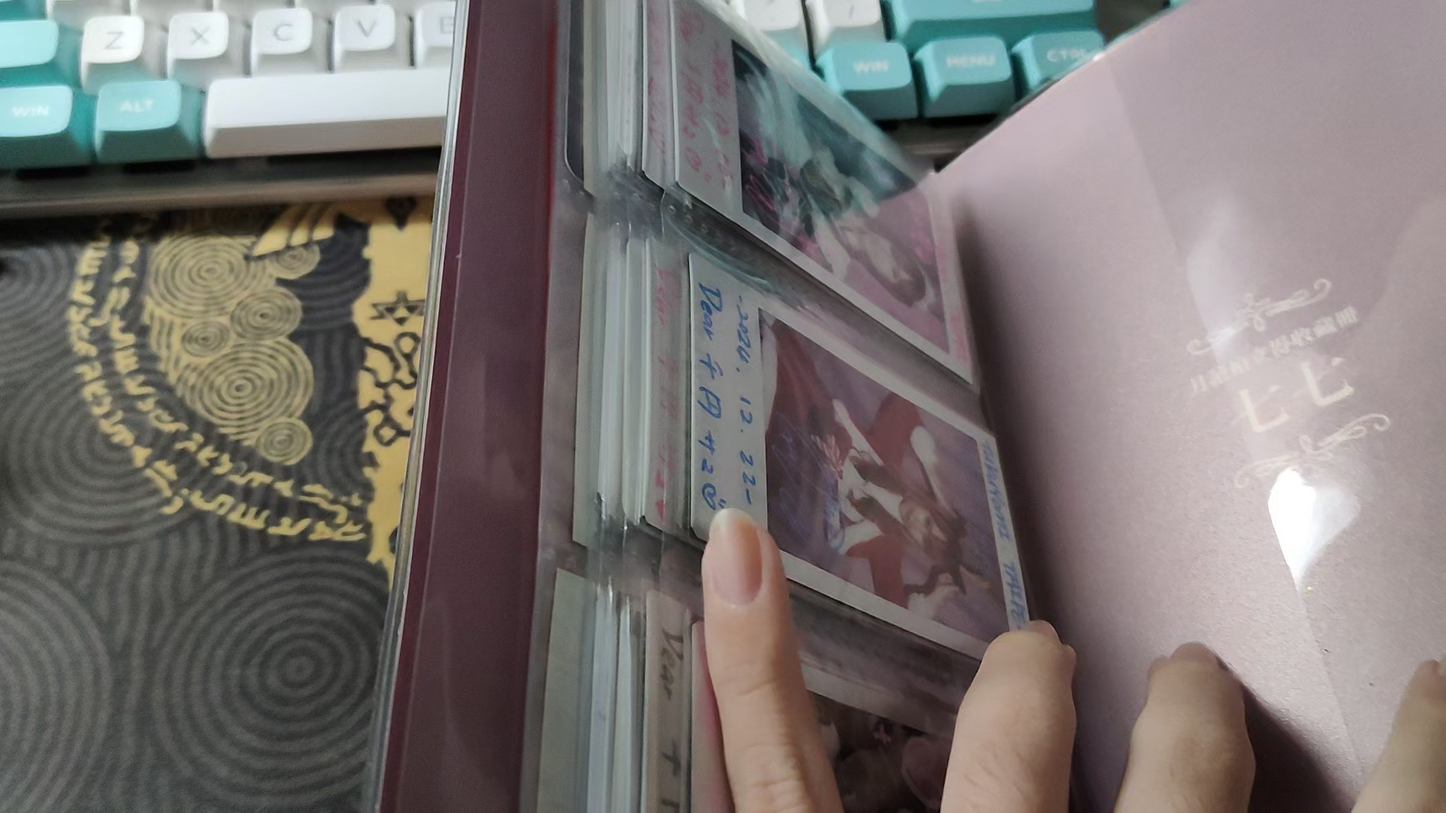Photo_book: (362, 0, 1446, 813)
